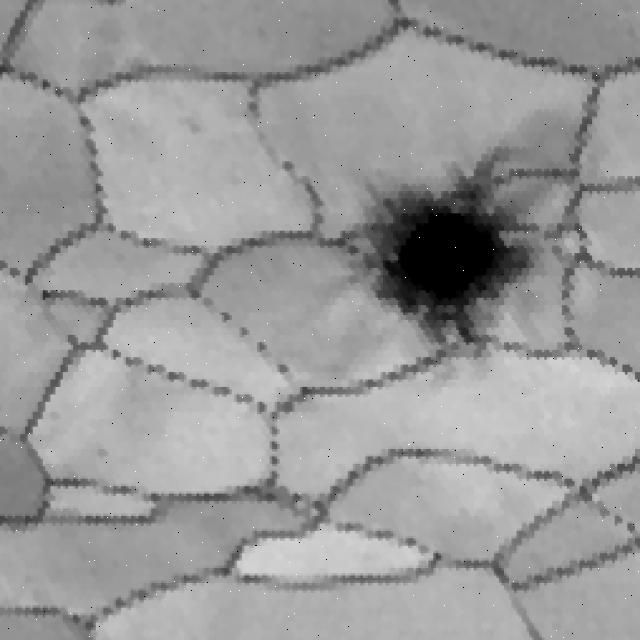good_void: (339, 115, 572, 361)
